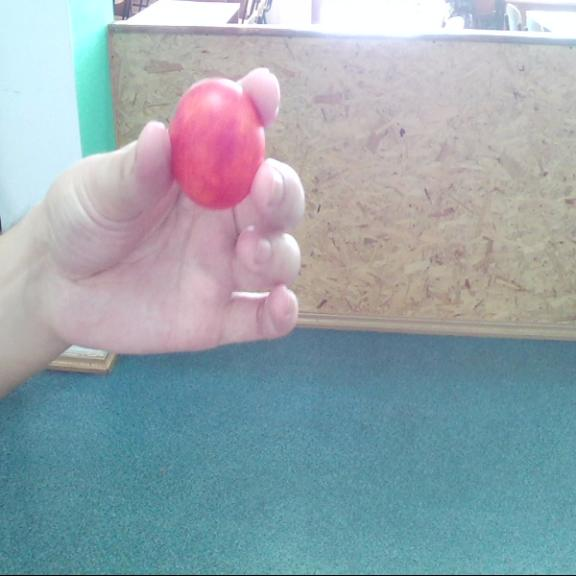ball: (168, 75, 267, 213)
